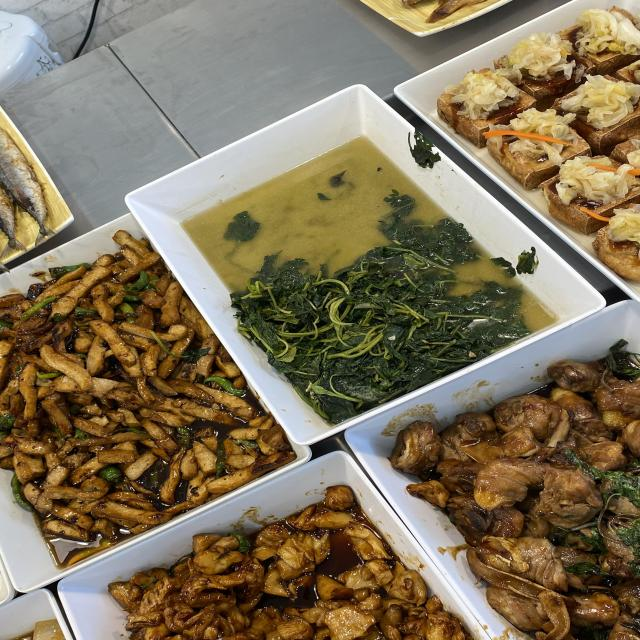Fried dried beans: (12, 315, 196, 470)
sweet potato leaves: (272, 255, 466, 365)
three-cup chicken: (464, 427, 637, 540)
